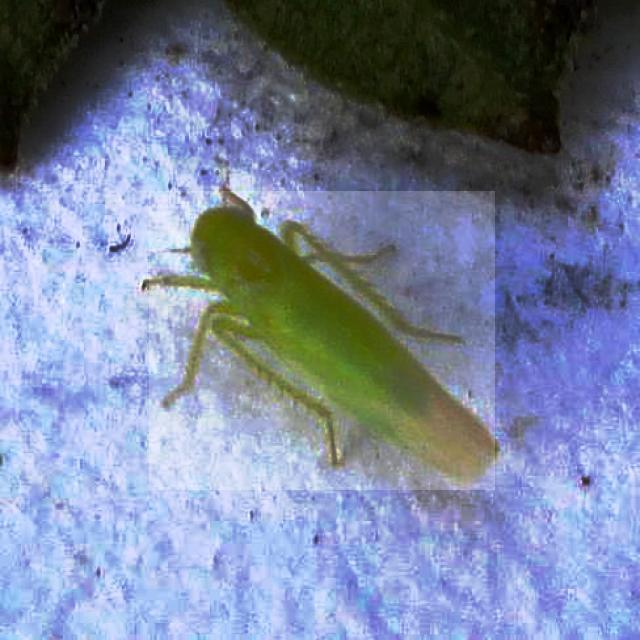green-leafhopper: (149, 191, 495, 490)
